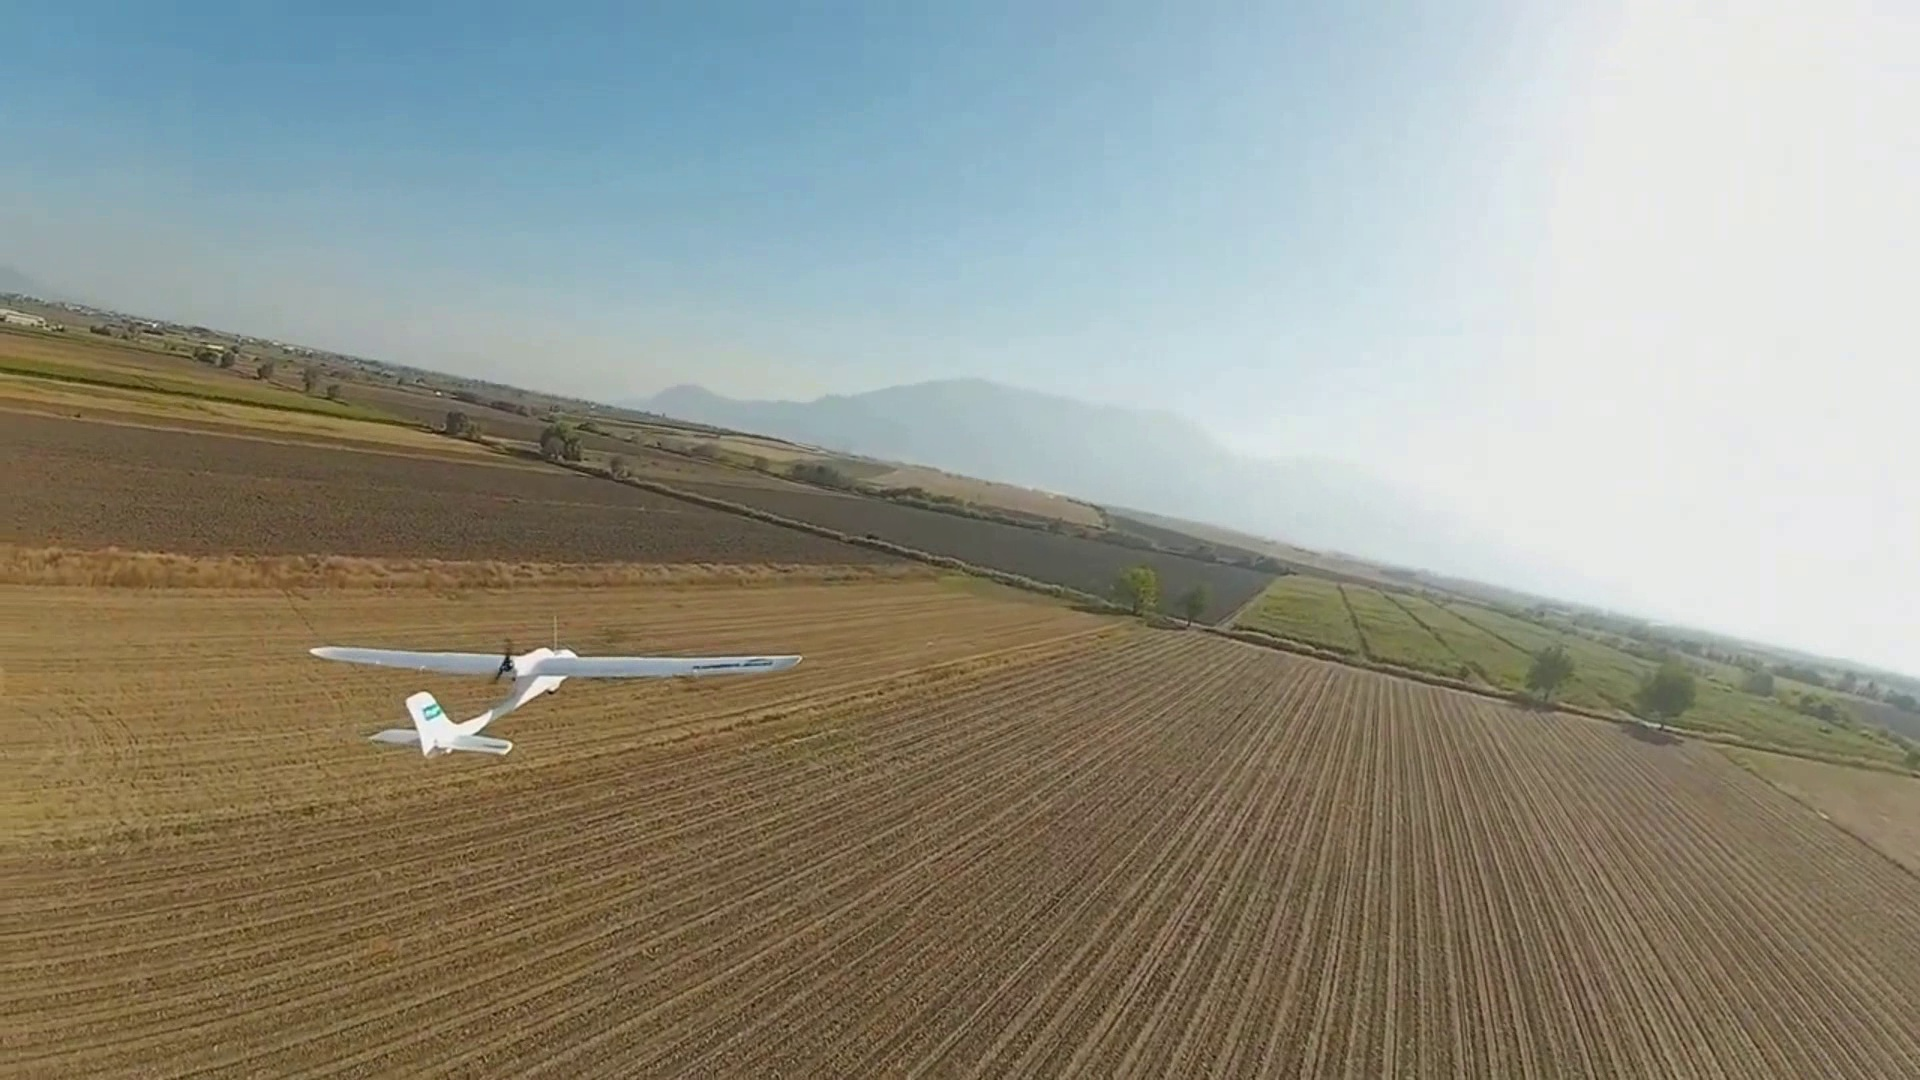airplane: (310, 637, 801, 762), (403, 668, 576, 758), (387, 690, 511, 760)
